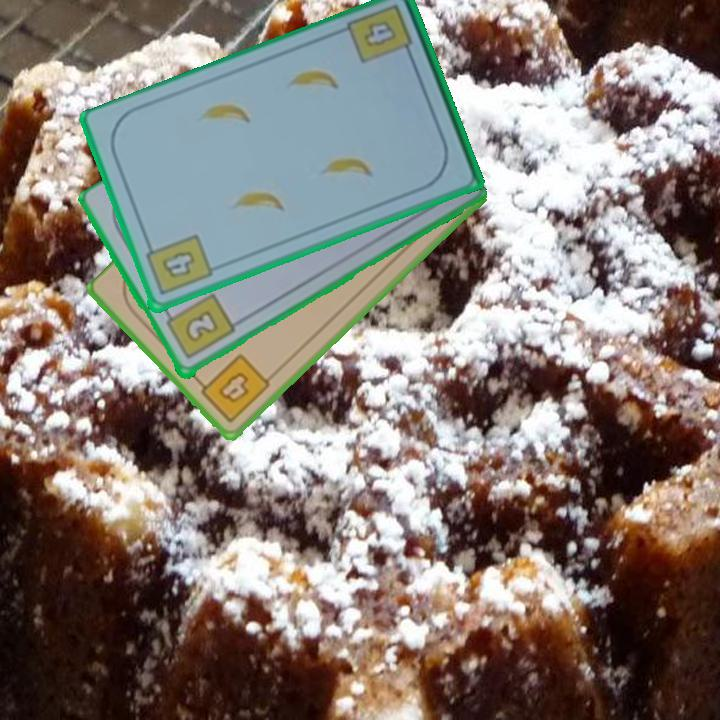2b: (160, 291, 238, 363)
4b: (192, 350, 274, 426), (142, 231, 215, 299), (344, 1, 417, 67)
